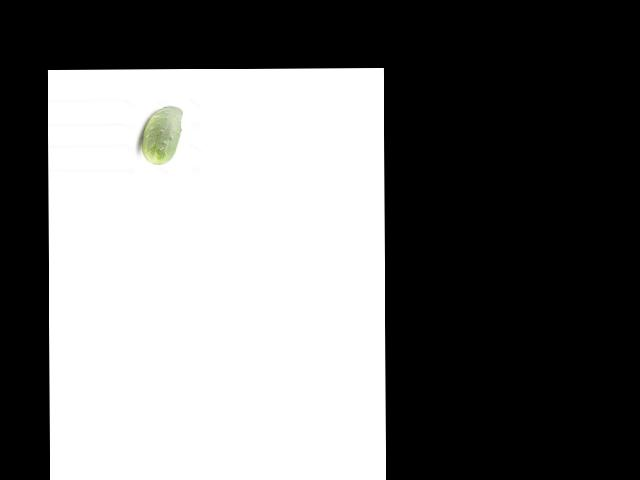cucumber: (141, 105, 183, 165)
